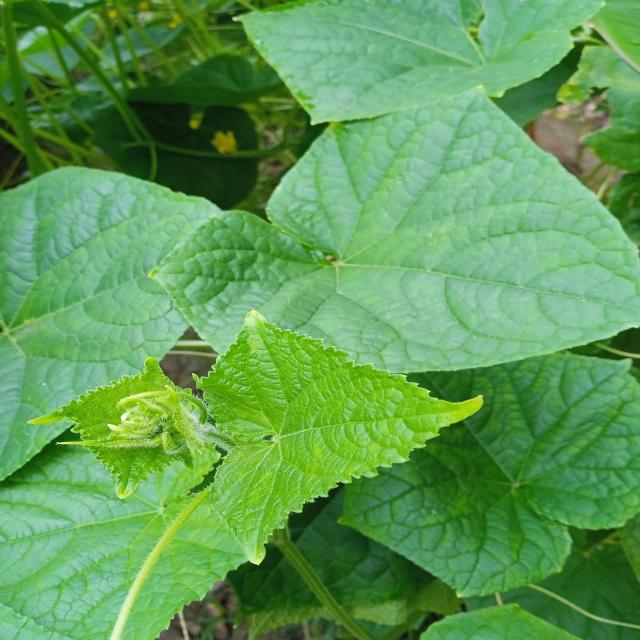cucumber_healthy: (144, 96, 640, 376), (190, 304, 487, 568), (0, 162, 232, 496), (226, 0, 625, 128), (399, 547, 403, 549)
